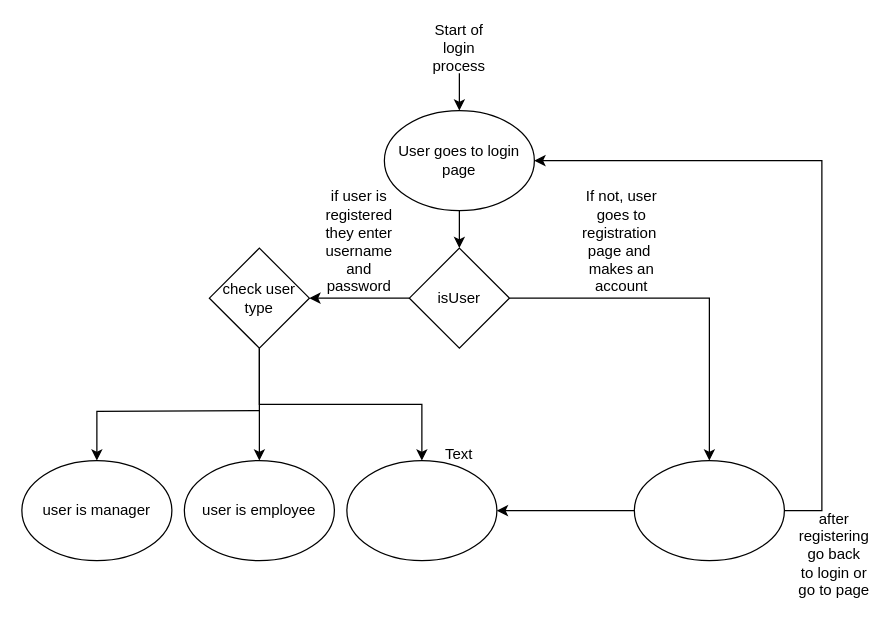
The diagram is 894 pixels wide and 621 high, and some of its shapes have lost their labels. Here are the shapes that lost their labels. From the top down, the centre of each, then its label:
At (x=421, y=510): "User goes to home page".
At (x=708, y=510): "account registration".
